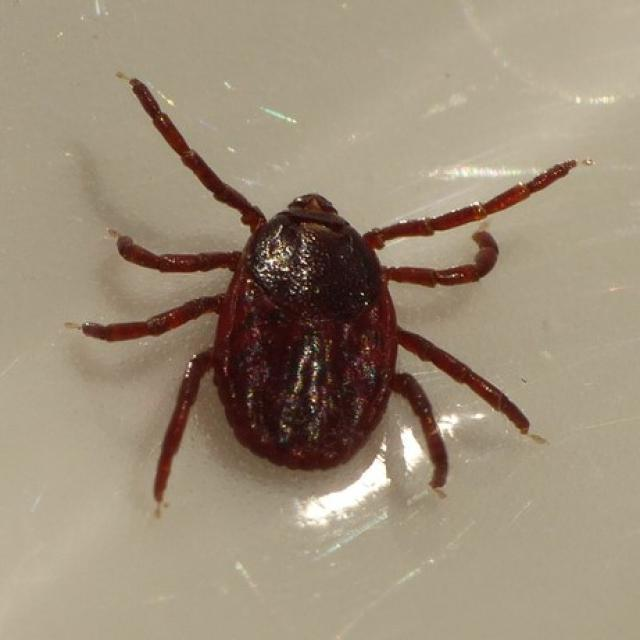Rhipicephalus Sanguineus-F: (76, 80, 591, 507)
